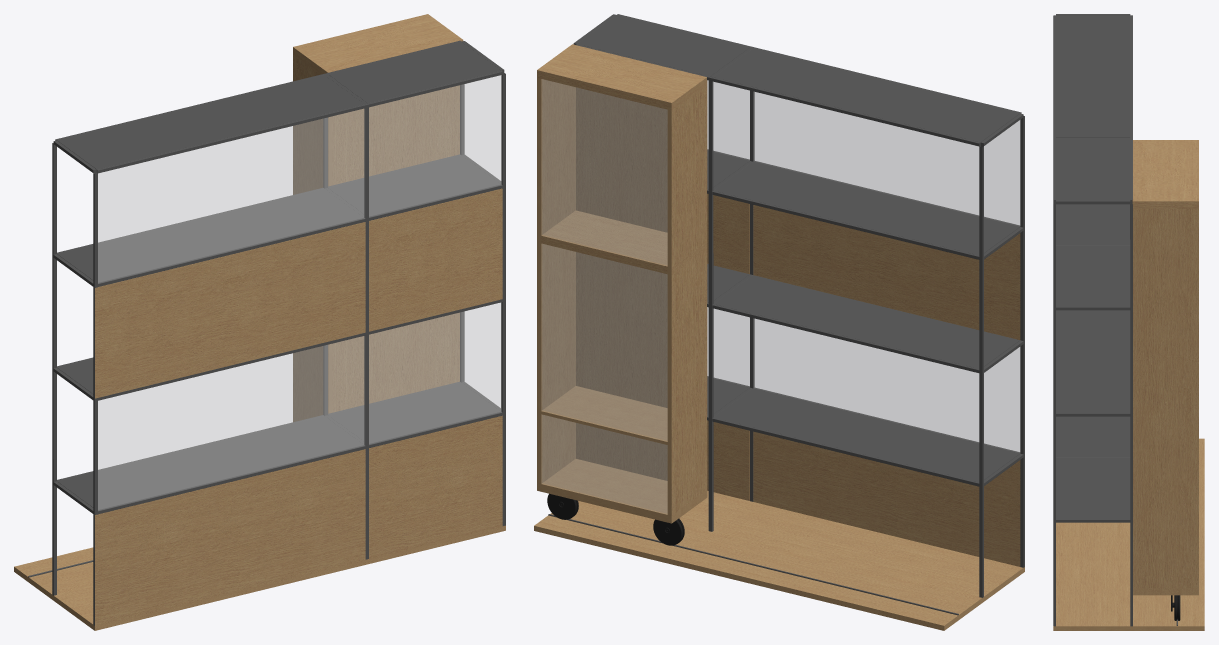
The model's file is Small_Shelf3.glb.
The picture shows the model from 3 angles, left to right: view 1: azimuth 30°, elevation 25°; view 2: azimuth 150°, elevation 25°; view 3: azimuth 270°, elevation 25°; orthographic projection. The views are drawn at different scales.
Visible parts, largest first — view 1: Rectangle568.002, Rectangle603.002; view 2: Rectangle568.002, Rectangle603.002; view 3: Rectangle568.002, Rectangle603.002.
Boxes of the visible parts, x1=… form: Rectangle568.002: x1=14, y1=40, x2=505, y2=630; Rectangle603.002: x1=293, y1=14, x2=463, y2=421; Rectangle568.002: x1=534, y1=14, x2=1024, y2=630; Rectangle603.002: x1=537, y1=44, x2=707, y2=523; Rectangle568.002: x1=1053, y1=14, x2=1204, y2=630; Rectangle603.002: x1=1132, y1=140, x2=1198, y2=595.
Bounding box in the file's own units: 1.51 × 1.61 × 0.513.
7 materials, 1 textured.
